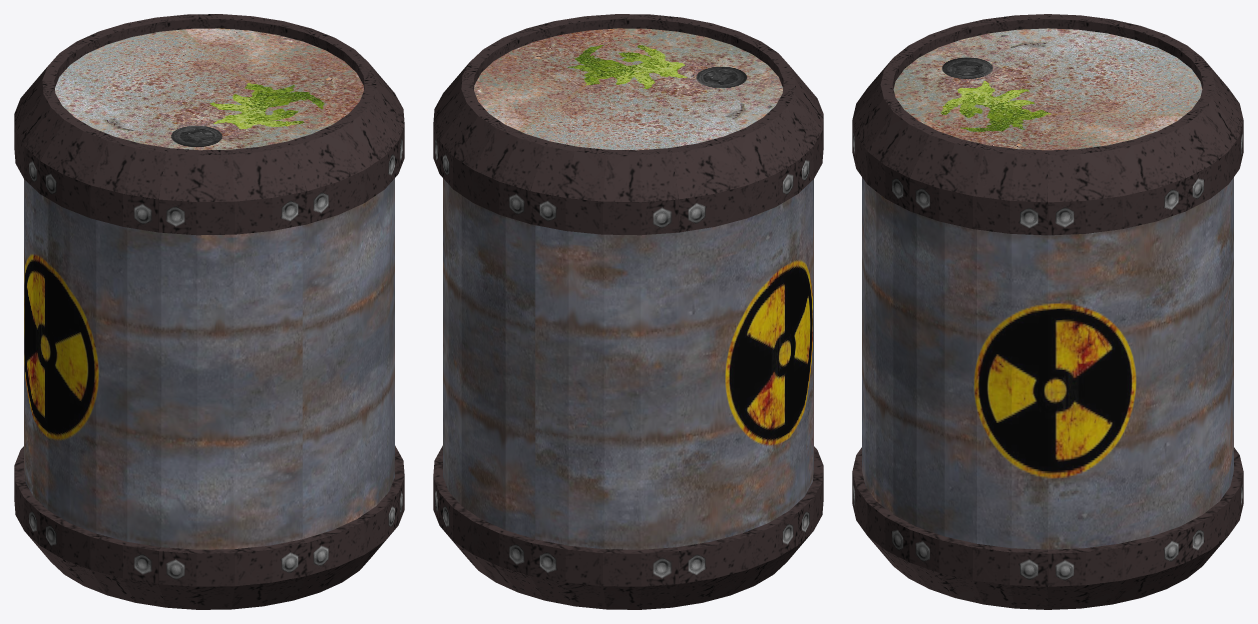
Rendered from barrel.obj.
3 views of the same model, side by side, from view 1: azimuth 30°, elevation 25°; view 2: azimuth 150°, elevation 25°; view 3: azimuth 270°, elevation 25° (orthographic).
Size of the model in its own units: 0.2172 by 0.2785 by 0.2172.
